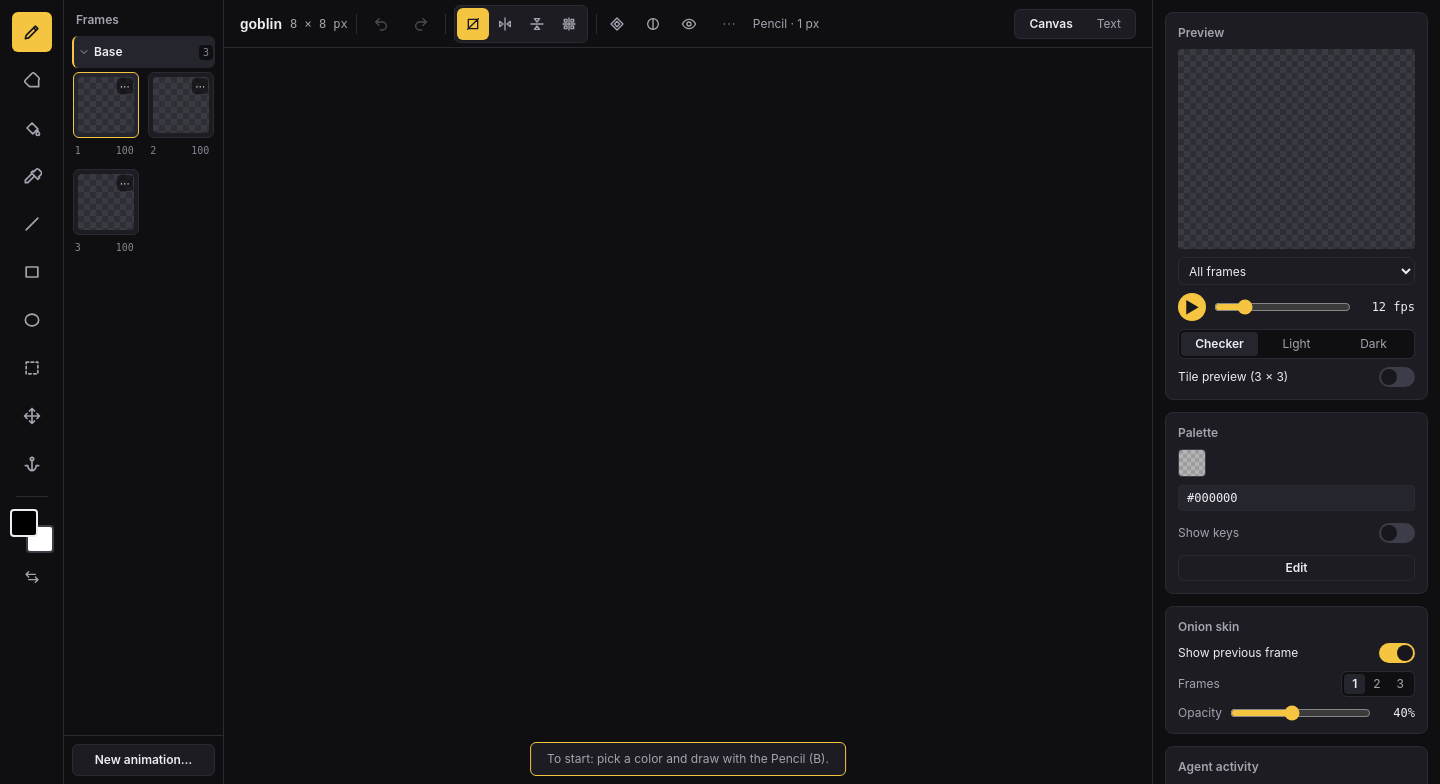
Canvas and Text switch › goes back to the canvas on the frame of the text
Click the button "Text" at [1109, 24], box [1085,12,1133,36]
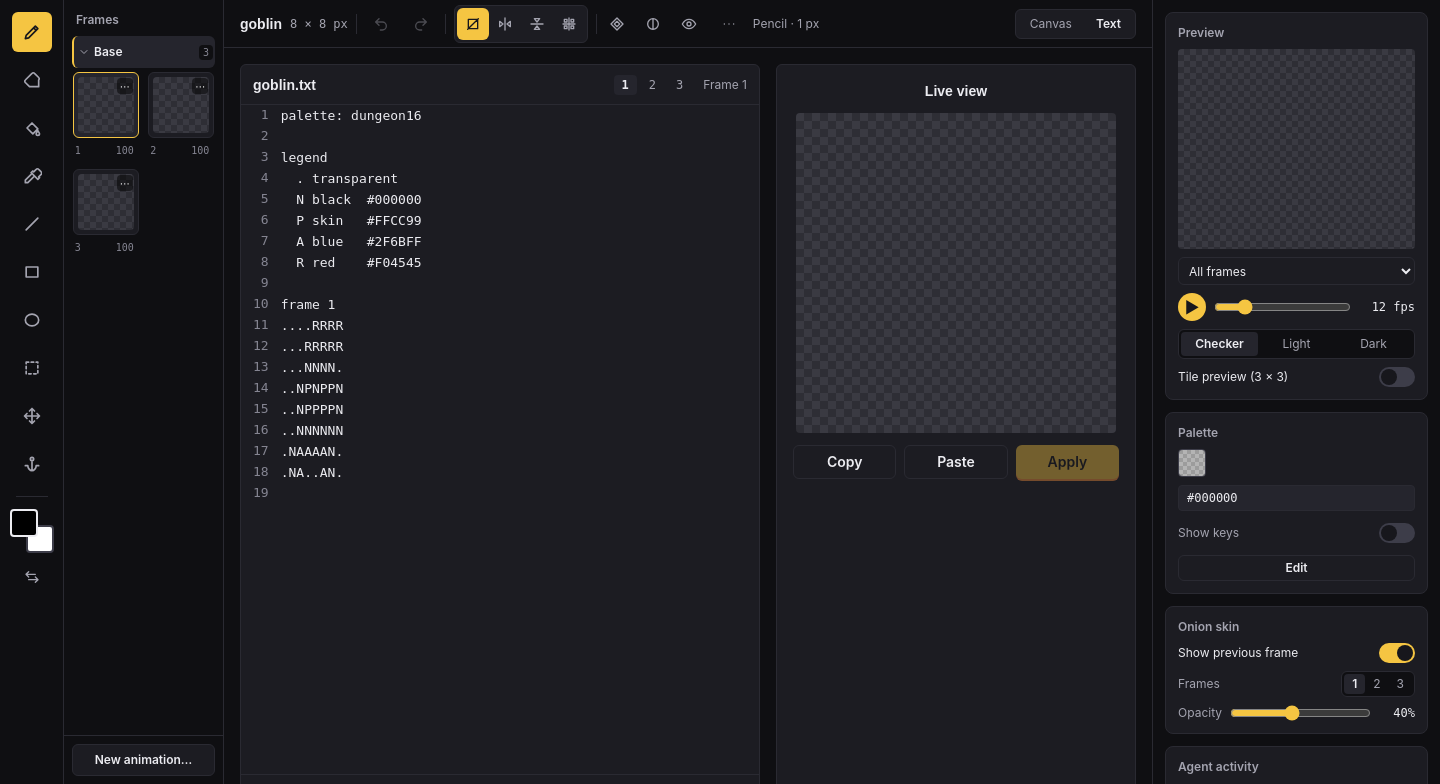
Expected: the text "Pencil · 1 px" is shown, [753,16,819,32]
Now the text box named "Text grid" is shown, box [281,105,759,504]
Click the button named "Frame 3" at [106, 202], box [73,169,139,235]
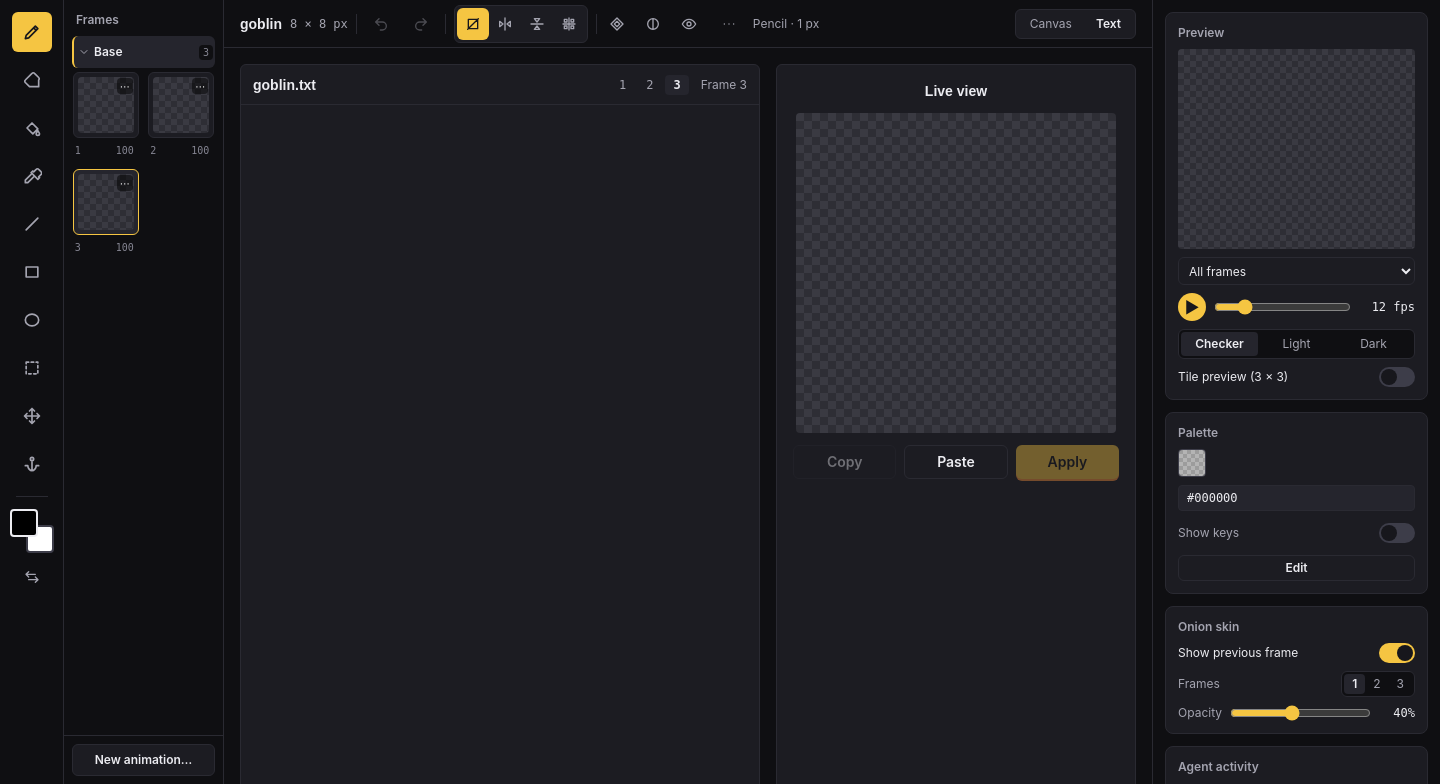
Click the button "Canvas" at [1051, 24], box [1018,12,1084,36]
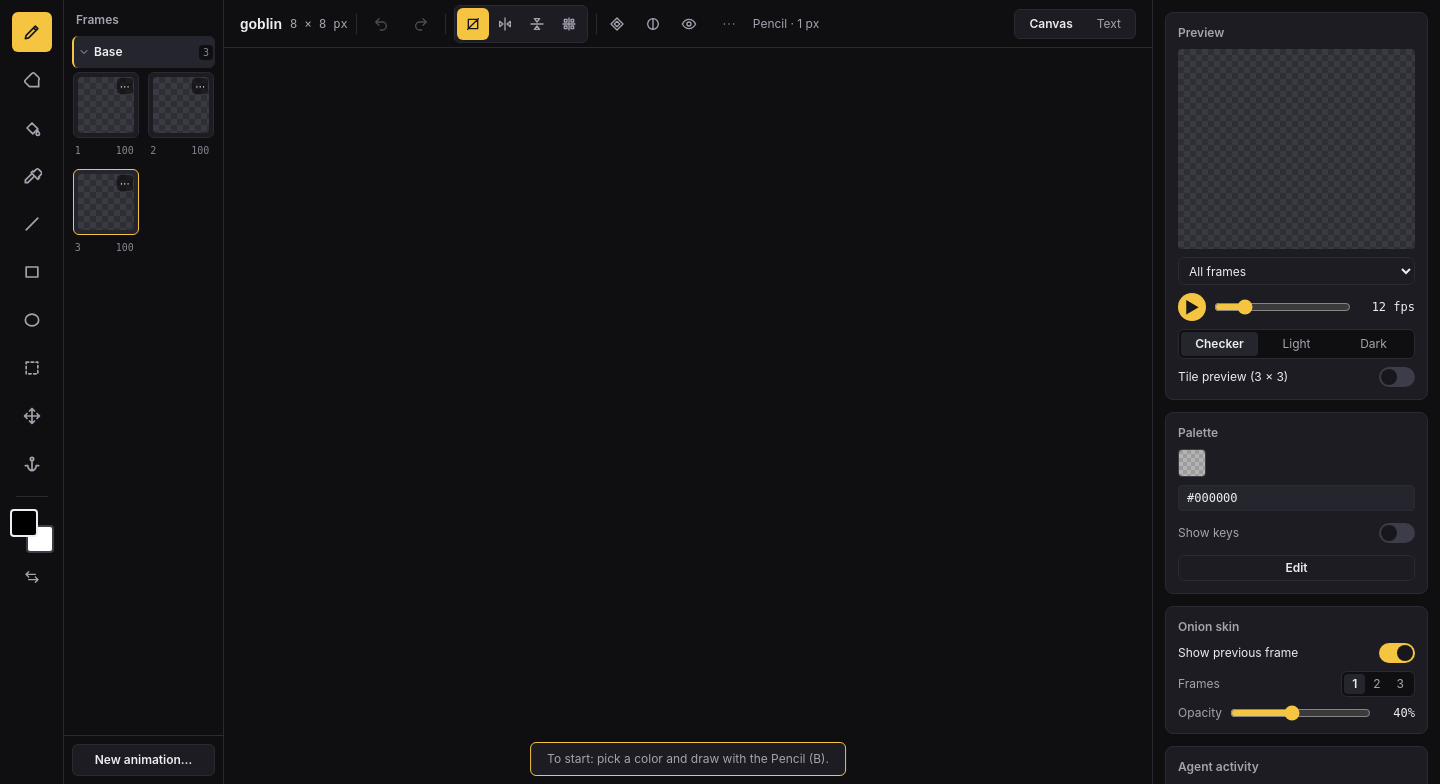
Now the element with test id "canvas-area" is shown, box [224,48,724,348]
